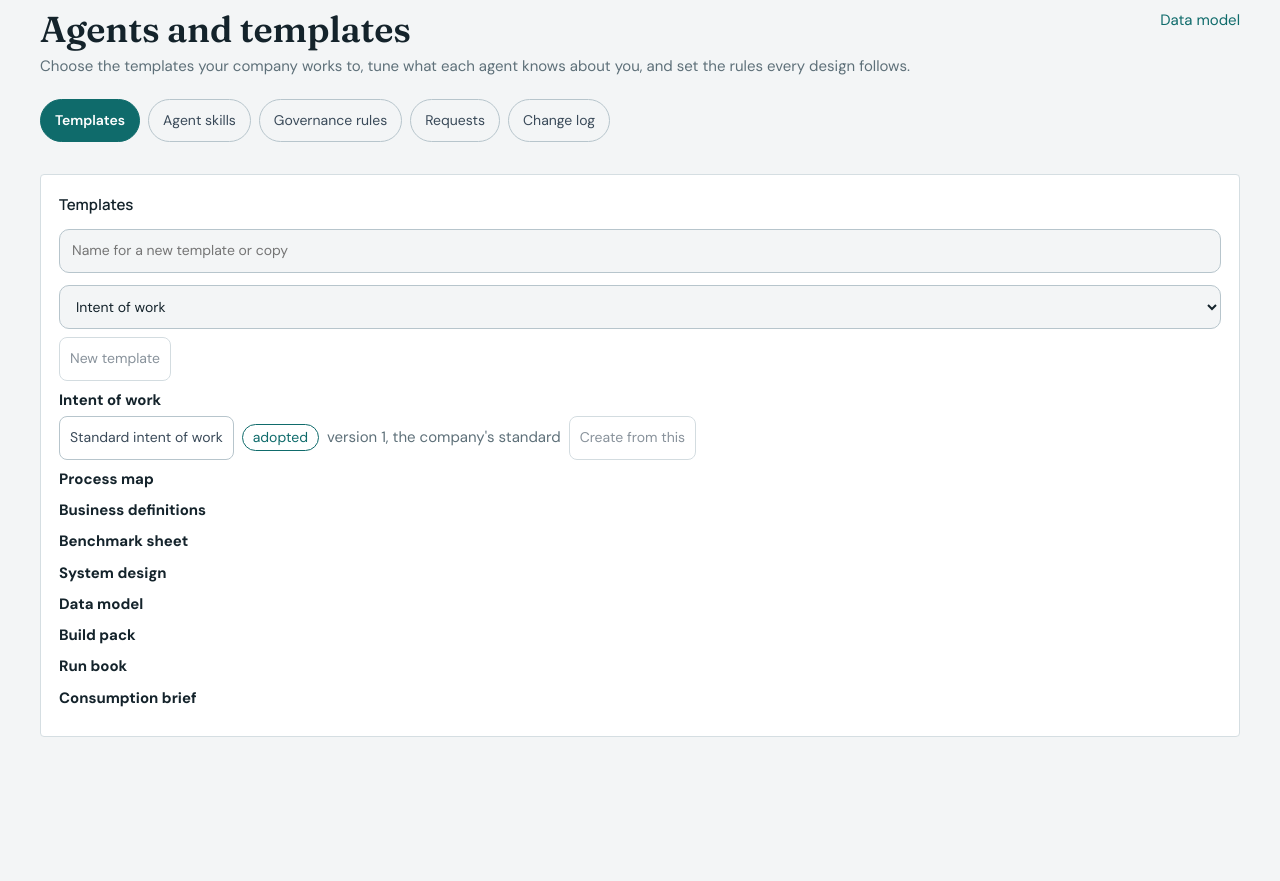
Test: the admin sees templates, requests and can adopt
Click the button "Standard intent of work": (146, 438) [59,416,234,460]
(page scrolled)
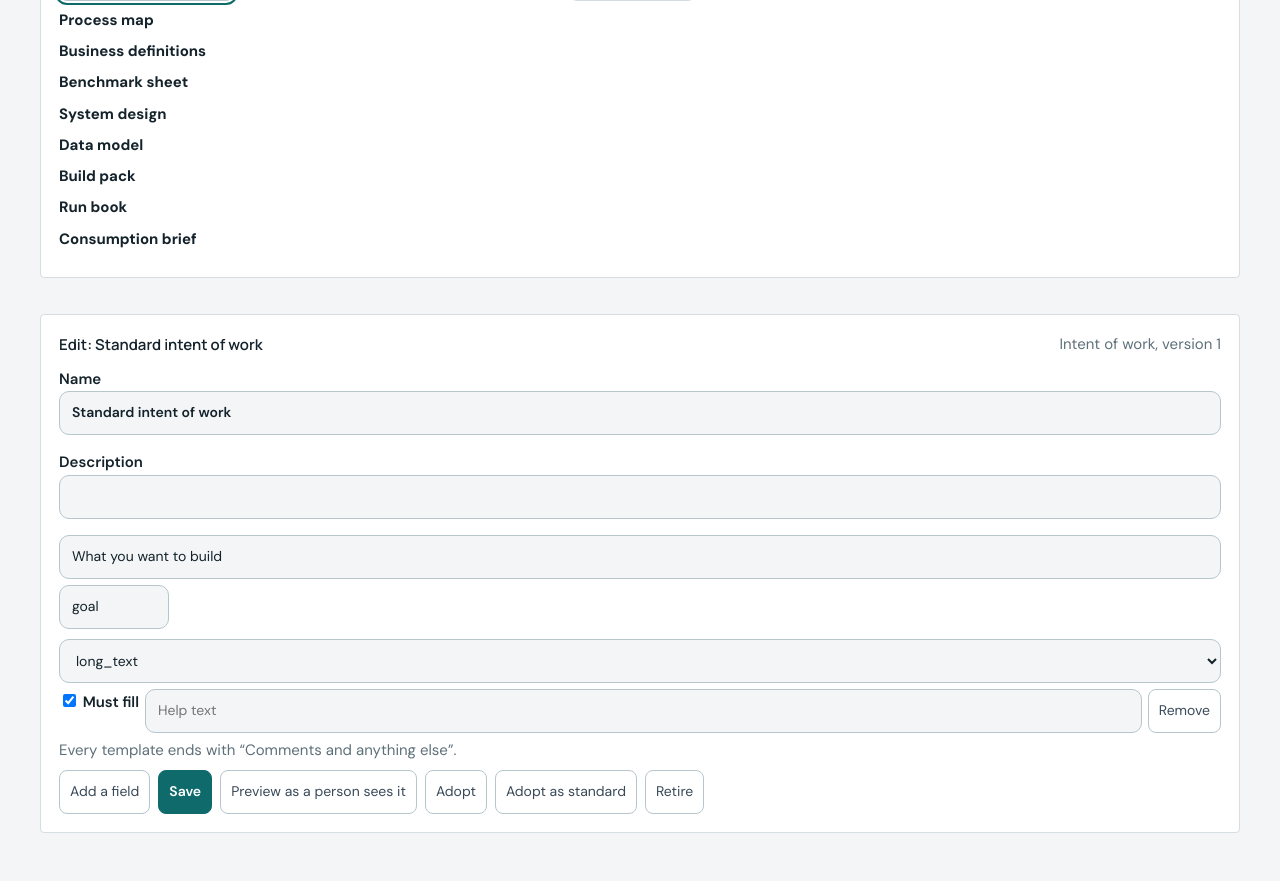
Result: the text "Every template ends with “Comments and anything else”." is shown at [59,740,456,760]
Click the button "Adopt": (456, 792) [425,770,487,814]
(page scrolled)
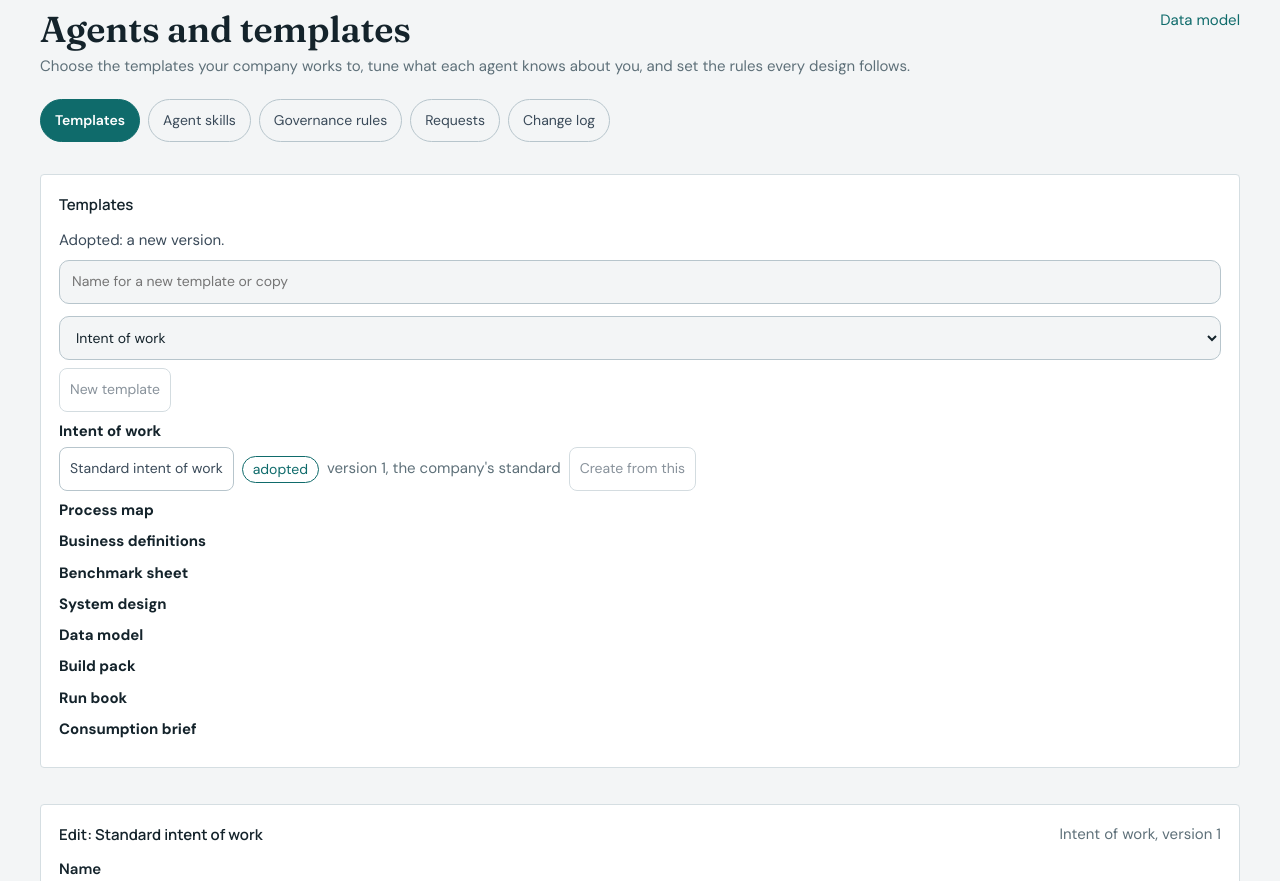
Result: the text "Adopted: a new version." is shown at [59,230,224,250]
Click the button "Requests": (455, 120) [410,99,500,142]
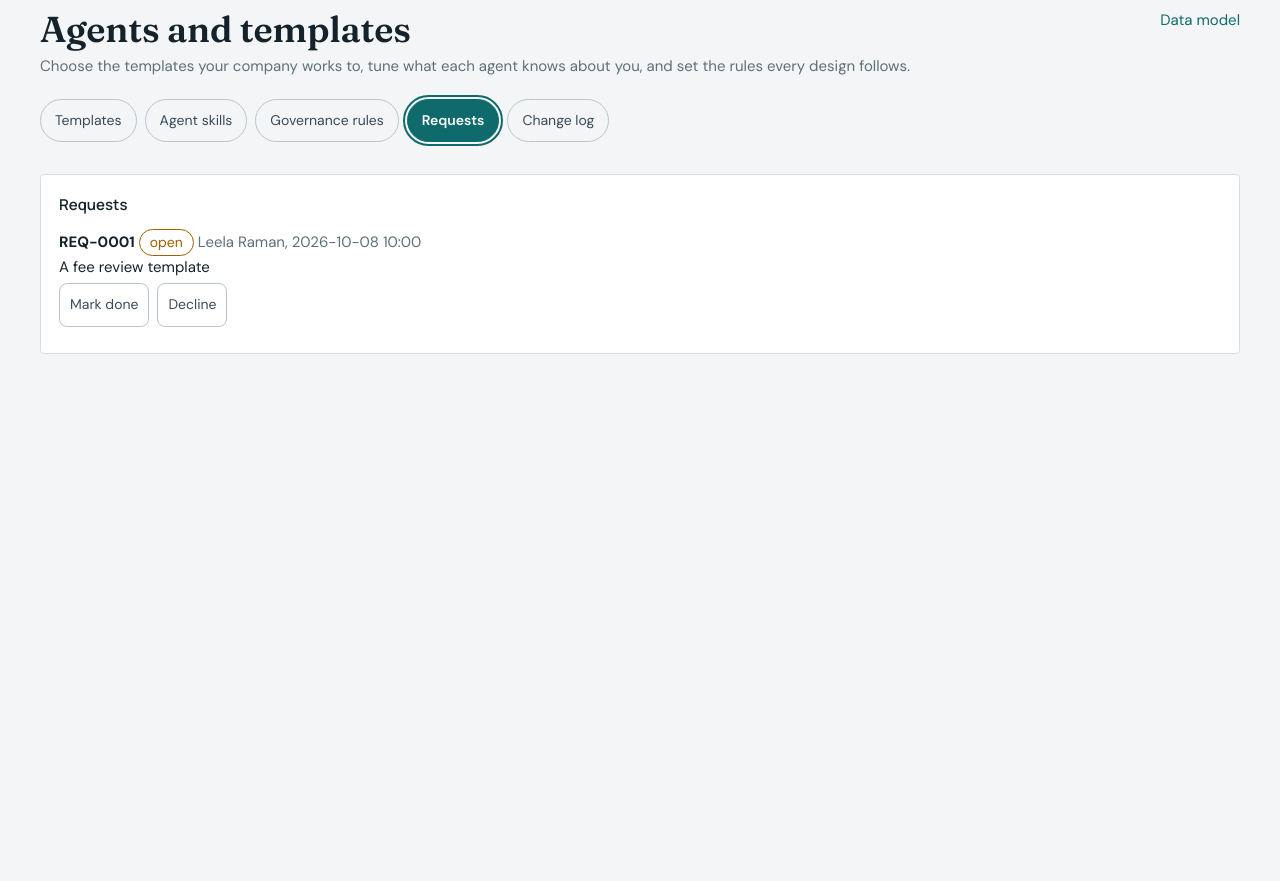
Result: the text "A fee review template" is shown at [59,256,210,276]
